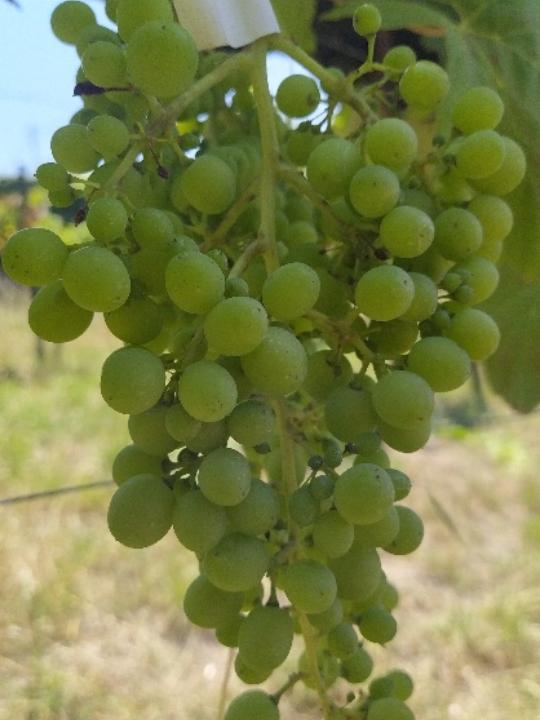grape: (0, 0, 527, 720)
